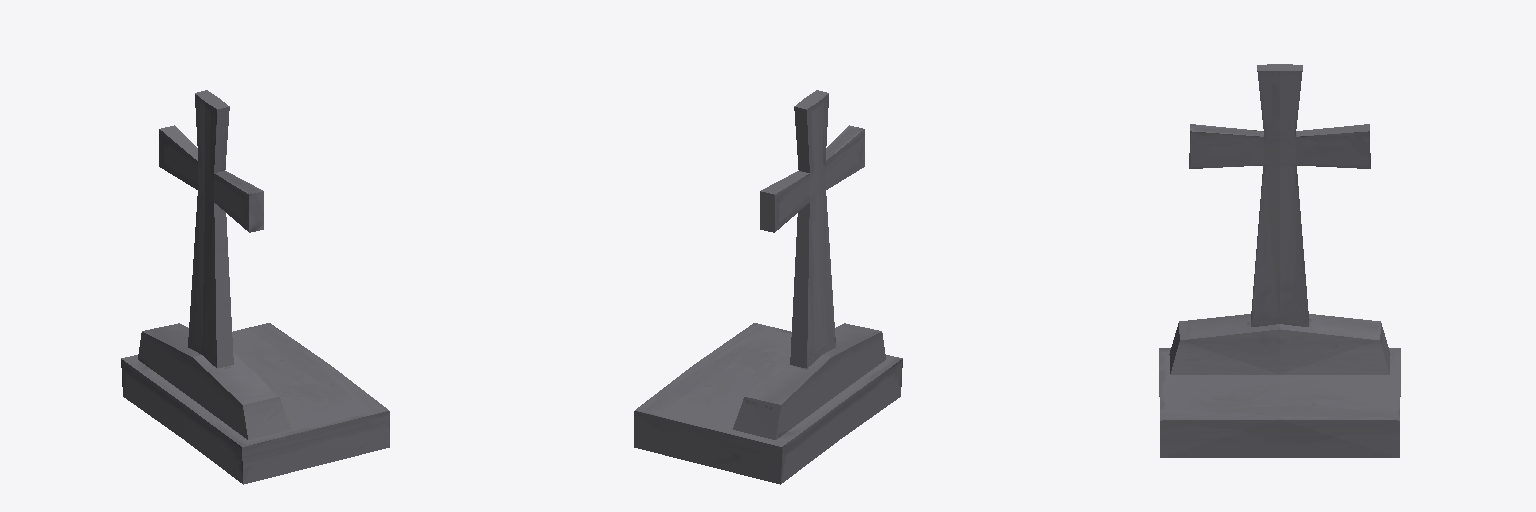
3 views of the same model, side by side, from view 1: azimuth 30°, elevation 25°; view 2: azimuth 150°, elevation 25°; view 3: azimuth 270°, elevation 25° (orthographic).
Parts seen in each view (by area): view 1: Cube; view 2: Cube; view 3: Cube.
Part boxes in pixels (bbox=[...]): Cube: bbox=[121, 90, 389, 484]; Cube: bbox=[634, 90, 902, 484]; Cube: bbox=[1159, 64, 1400, 457].
Size of the model in its own units: 1.33 by 2.84 by 1.87.
Materials: 1 (1 with a texture image).